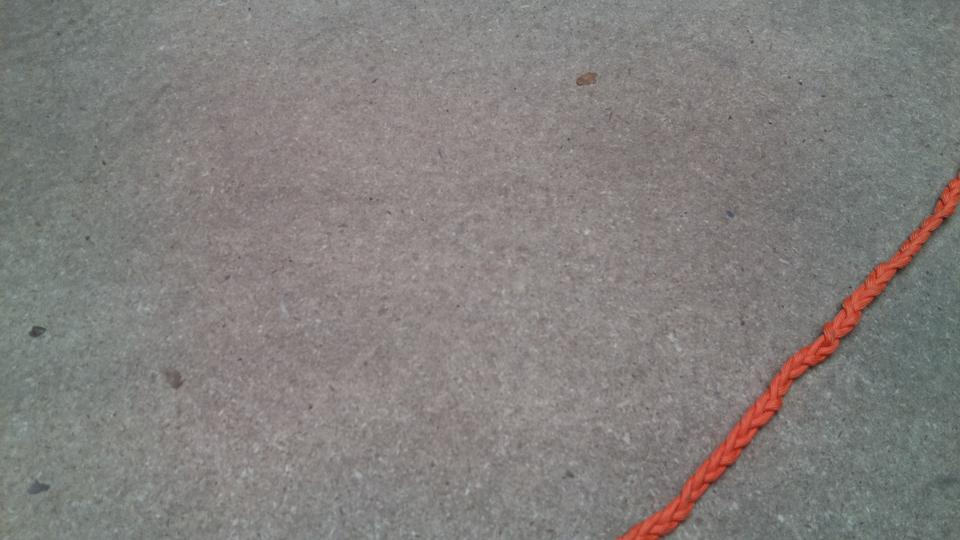rope: (650, 193, 958, 540)
